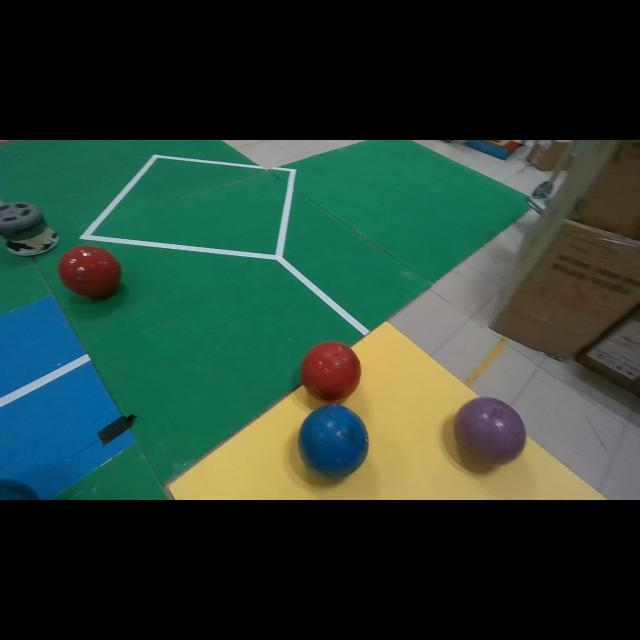B: (298, 404, 369, 479)
P: (455, 398, 526, 464)
R: (300, 341, 361, 401), (58, 245, 121, 298)
